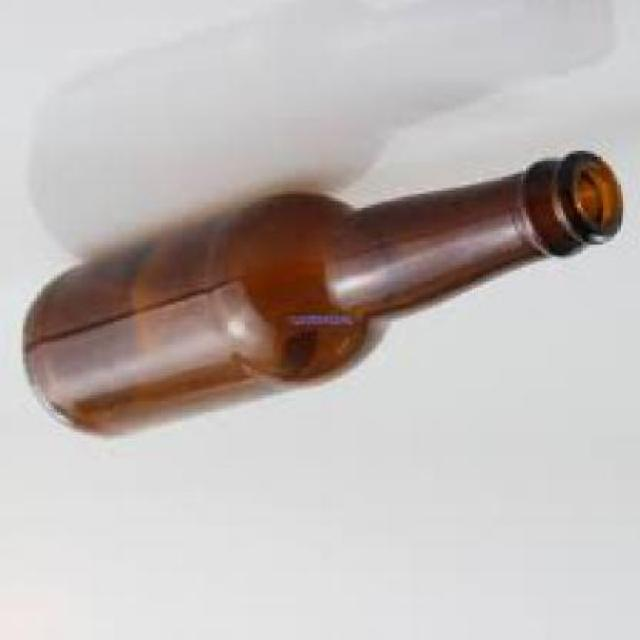GLASS: (20, 154, 620, 440)
